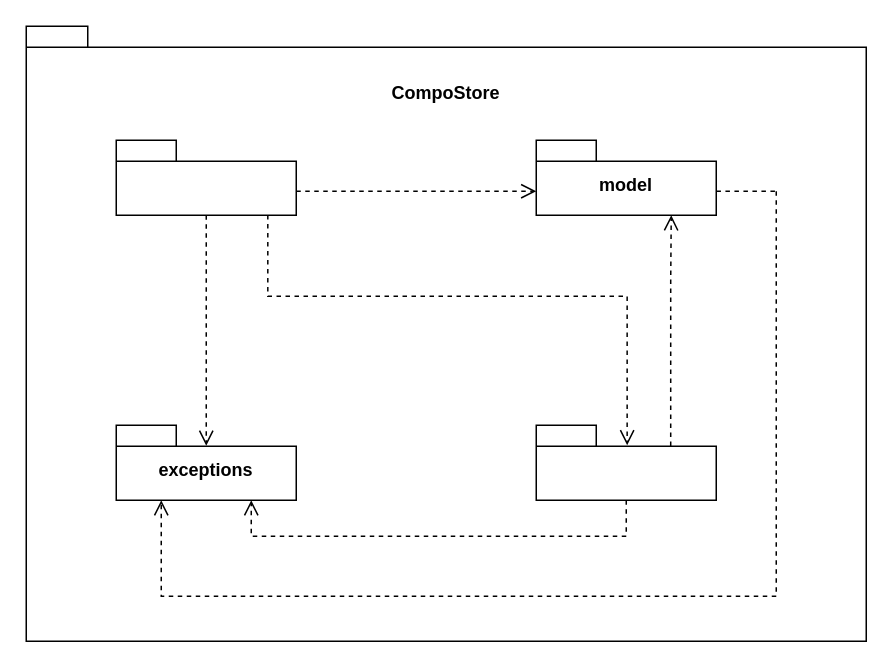
The diagram is 893 pixels wide and 668 high, and some of its shapes have lost their labels. The box of each missing label's shape, as (x1, y1, x2, y2) in pixels:
controllers: (115, 139, 296, 215)
views: (535, 424, 716, 500)
